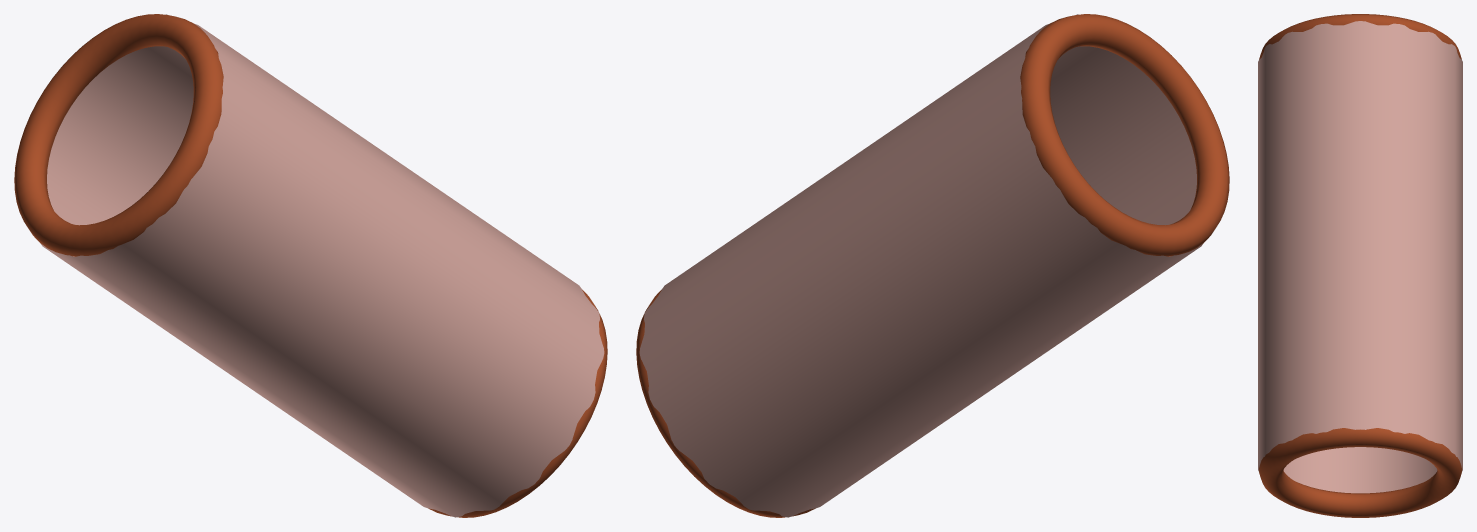
File: rubber-connector.glb
The picture shows the model from 3 angles, left to right: view 1: azimuth 30°, elevation 25°; view 2: azimuth 150°, elevation 25°; view 3: azimuth 270°, elevation 25°; orthographic projection. The views are drawn at different scales.
Visible parts, largest first — view 1: rubber-connector part 1, rubber-connector part 2, rubber-connector part 3; view 2: rubber-connector part 1, rubber-connector part 2, rubber-connector part 3; view 3: rubber-connector part 1, rubber-connector part 3, rubber-connector part 2.
Part boxes in pixels (x1,y1,x2,y2): rubber-connector part 1: (40, 14, 604, 517); rubber-connector part 2: (14, 14, 223, 256); rubber-connector part 3: (428, 289, 607, 517); rubber-connector part 1: (639, 14, 1203, 517); rubber-connector part 2: (1020, 14, 1229, 256); rubber-connector part 3: (636, 289, 815, 517); rubber-connector part 1: (1258, 21, 1462, 493); rubber-connector part 3: (1259, 428, 1461, 517); rubber-connector part 2: (1259, 14, 1461, 59).
Bounding box in the file's own units: 0.0539 × 0.0513 × 0.0232.
